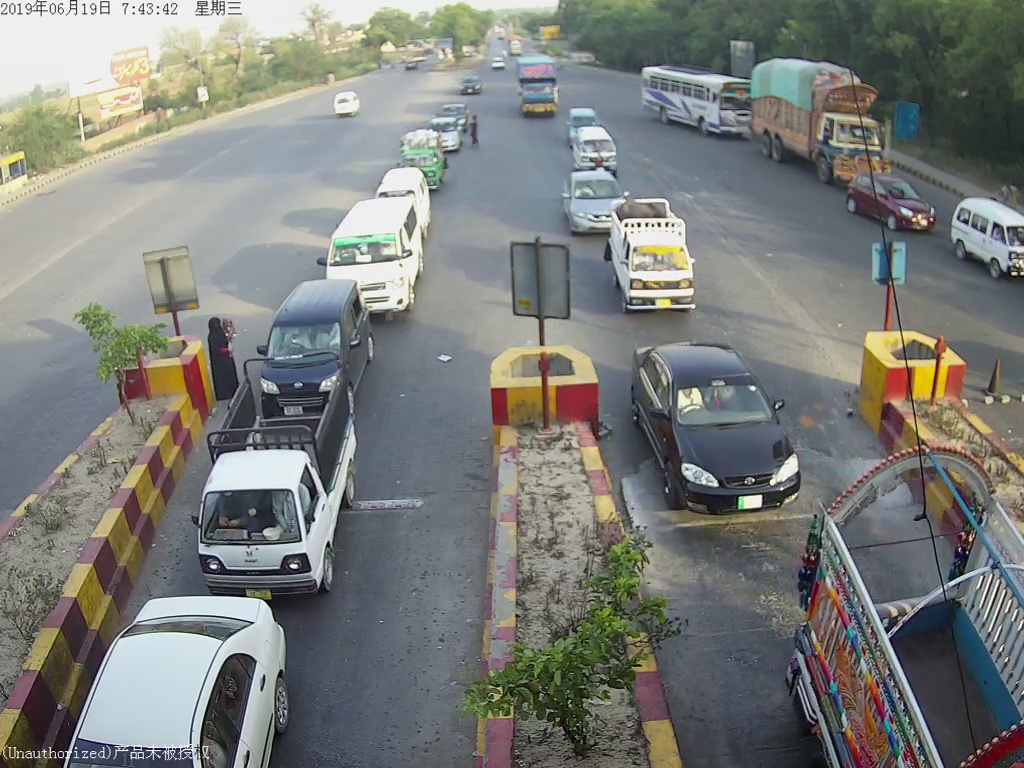Cat-1: (202, 393, 378, 590), (638, 342, 809, 517), (260, 276, 376, 381), (607, 197, 699, 317)
